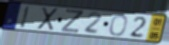2: (128, 16, 149, 39), (83, 12, 103, 36)
I: (19, 5, 32, 30)
O: (108, 14, 129, 37)
X: (36, 7, 59, 32)
Z: (60, 9, 85, 34)
